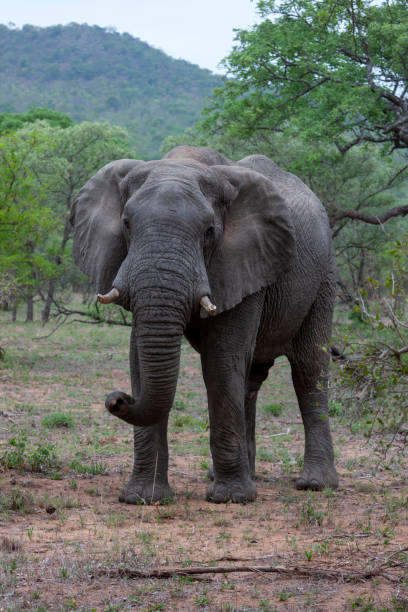africanelephant: (69, 152, 264, 437)
